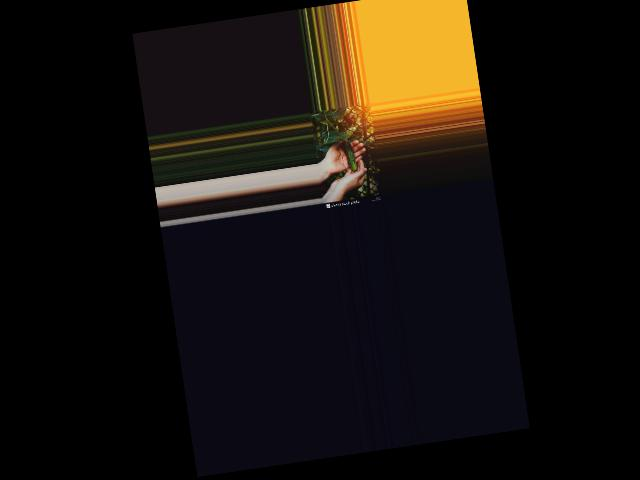cucumber: (342, 140, 358, 172)
